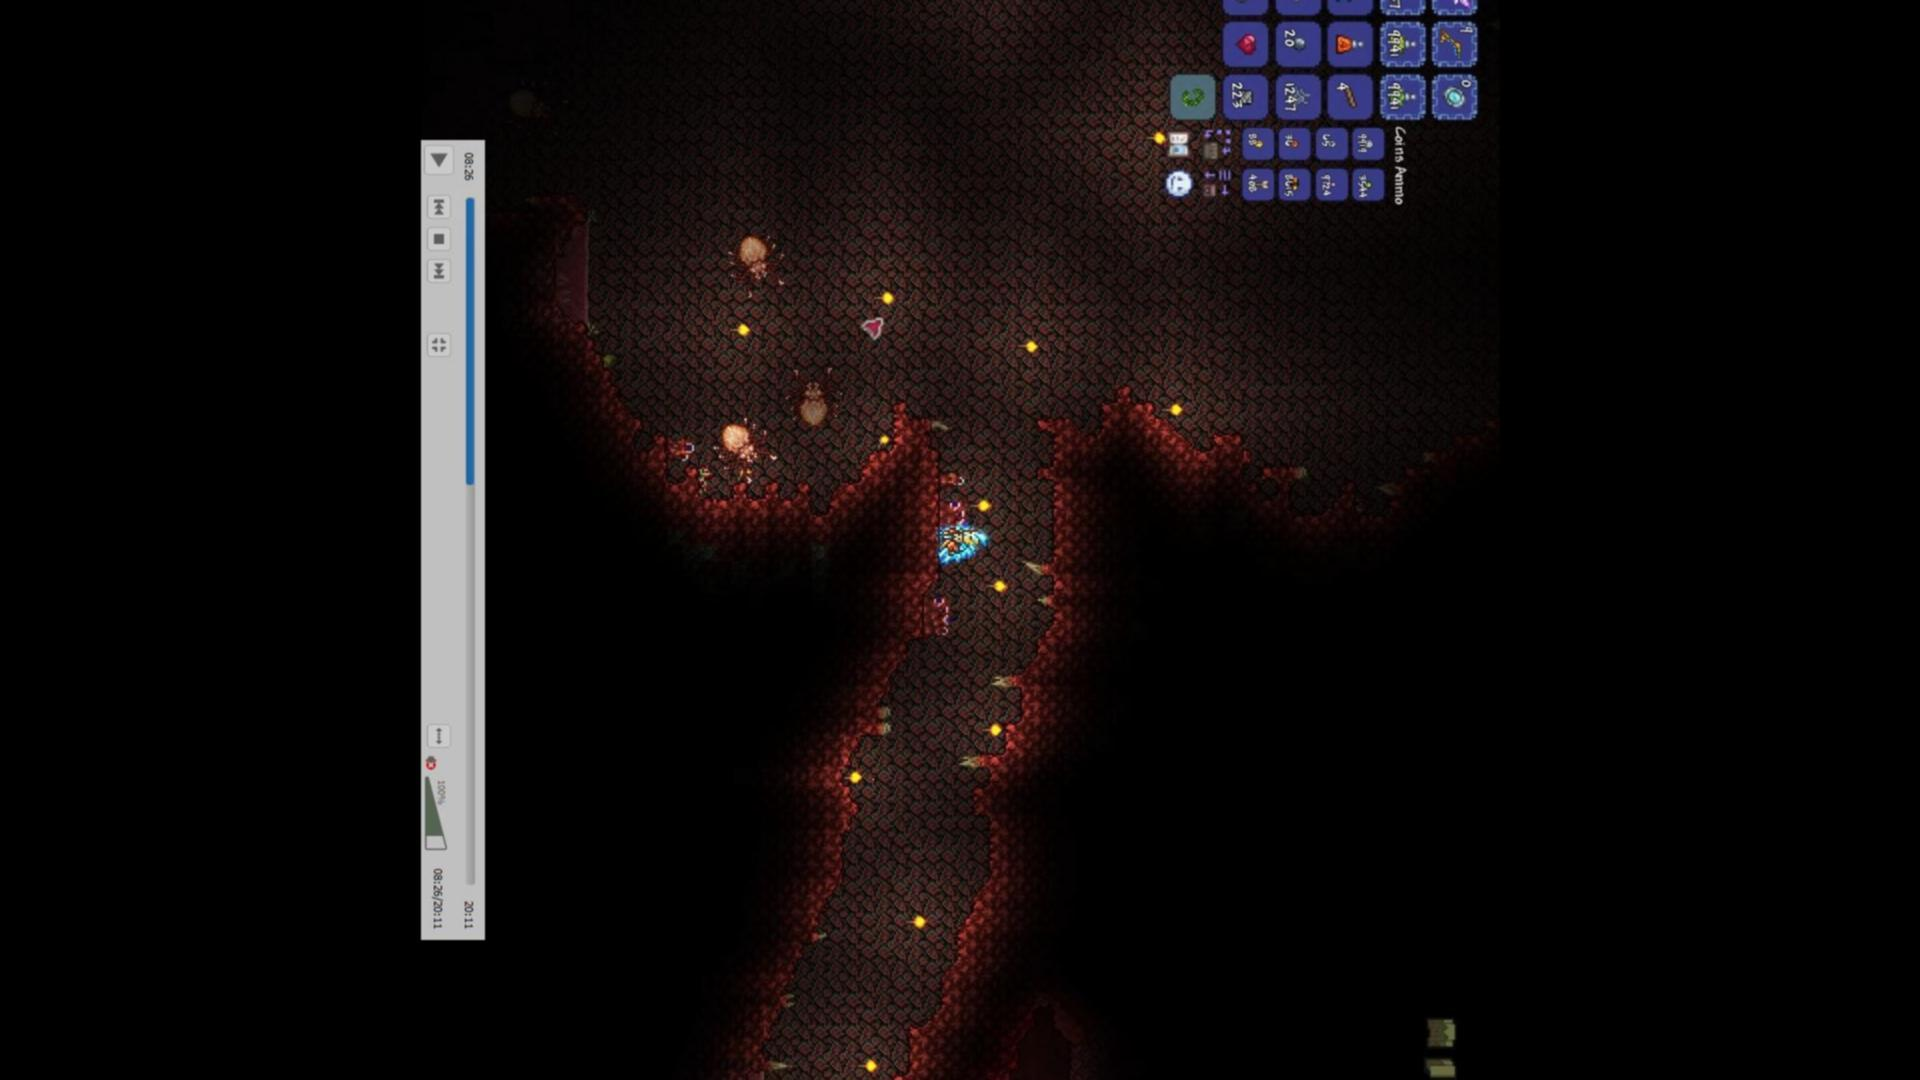altar: (922, 596, 949, 636)
cobwebI: (1288, 82, 1312, 112)
lifeC: (1230, 32, 1263, 58)
mirror: (1443, 84, 1469, 109)
spider: (773, 363, 844, 436), (712, 414, 778, 488), (719, 224, 793, 290)
